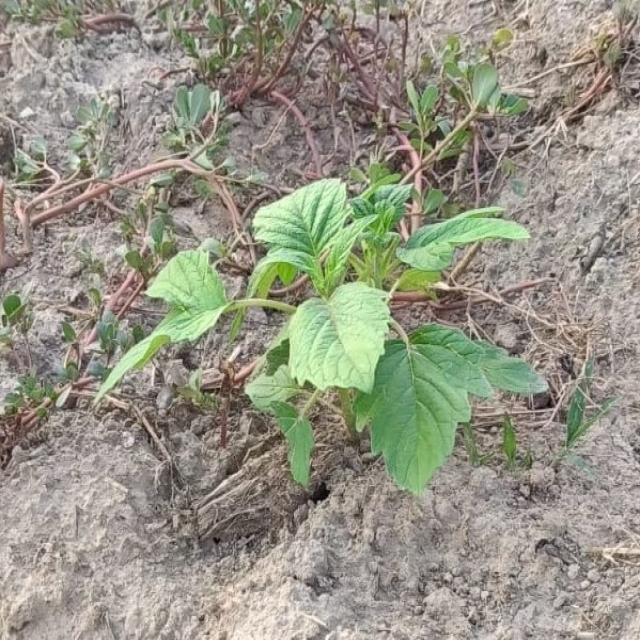plant: (99, 179, 548, 494)
